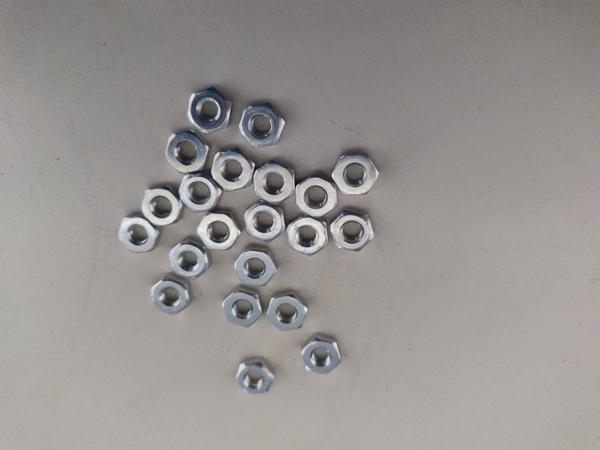nut: (239, 102, 287, 148), (333, 151, 381, 195), (189, 86, 232, 134), (332, 208, 375, 252), (254, 162, 297, 205), (167, 130, 209, 174), (198, 211, 242, 251), (296, 175, 337, 217), (244, 200, 286, 241), (212, 150, 254, 191), (170, 237, 211, 279), (119, 213, 161, 254), (234, 247, 277, 287), (300, 334, 344, 373), (143, 184, 183, 226), (266, 293, 310, 331), (287, 217, 329, 256), (151, 275, 191, 315), (222, 290, 264, 328), (179, 174, 221, 212), (237, 357, 274, 393)
